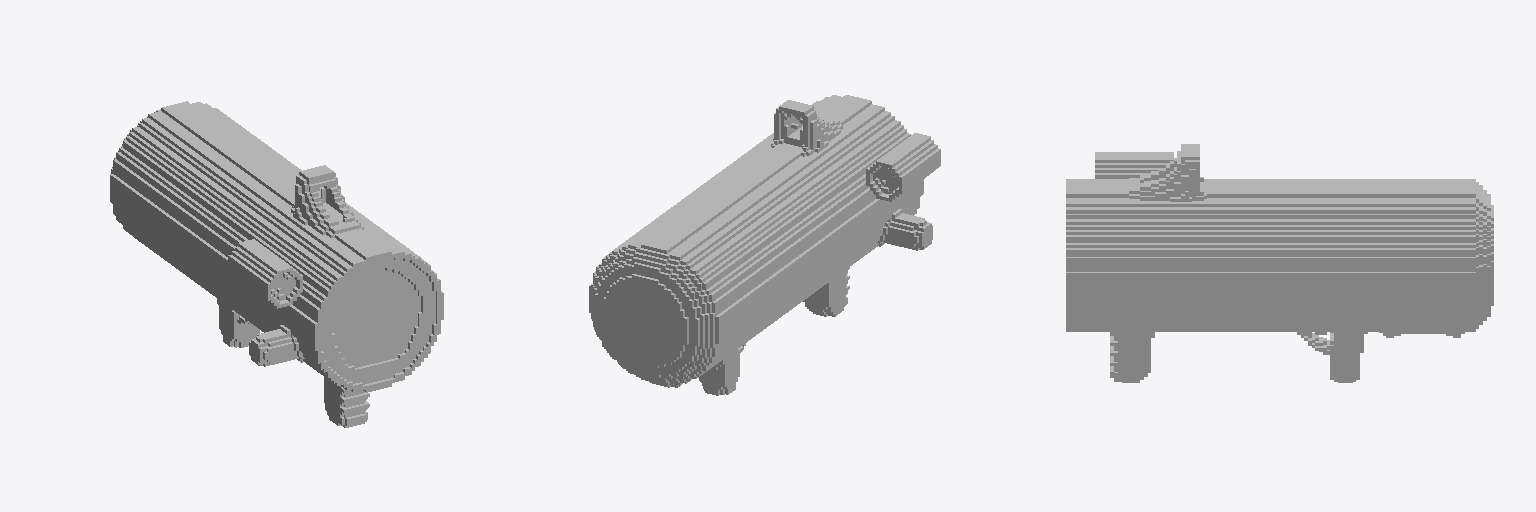
File: bazooka.obj
3 renders of one model, left to right at view 1: azimuth 30°, elevation 25°; view 2: azimuth 150°, elevation 25°; view 3: azimuth 270°, elevation 25°, orthographic.
Parts seen in each view (by area): view 1: object 1; view 2: object 1; view 3: object 1.
Boxes of the visible parts, x1,y1,x2,y2 form: object 1: [110, 101, 443, 427]; object 1: [589, 95, 940, 395]; object 1: [1066, 144, 1493, 382].
Bounding box in the file's own units: 5 × 6.7 × 11.5.